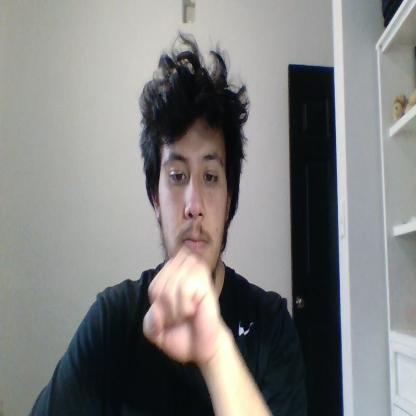S: (142, 243, 220, 361)
